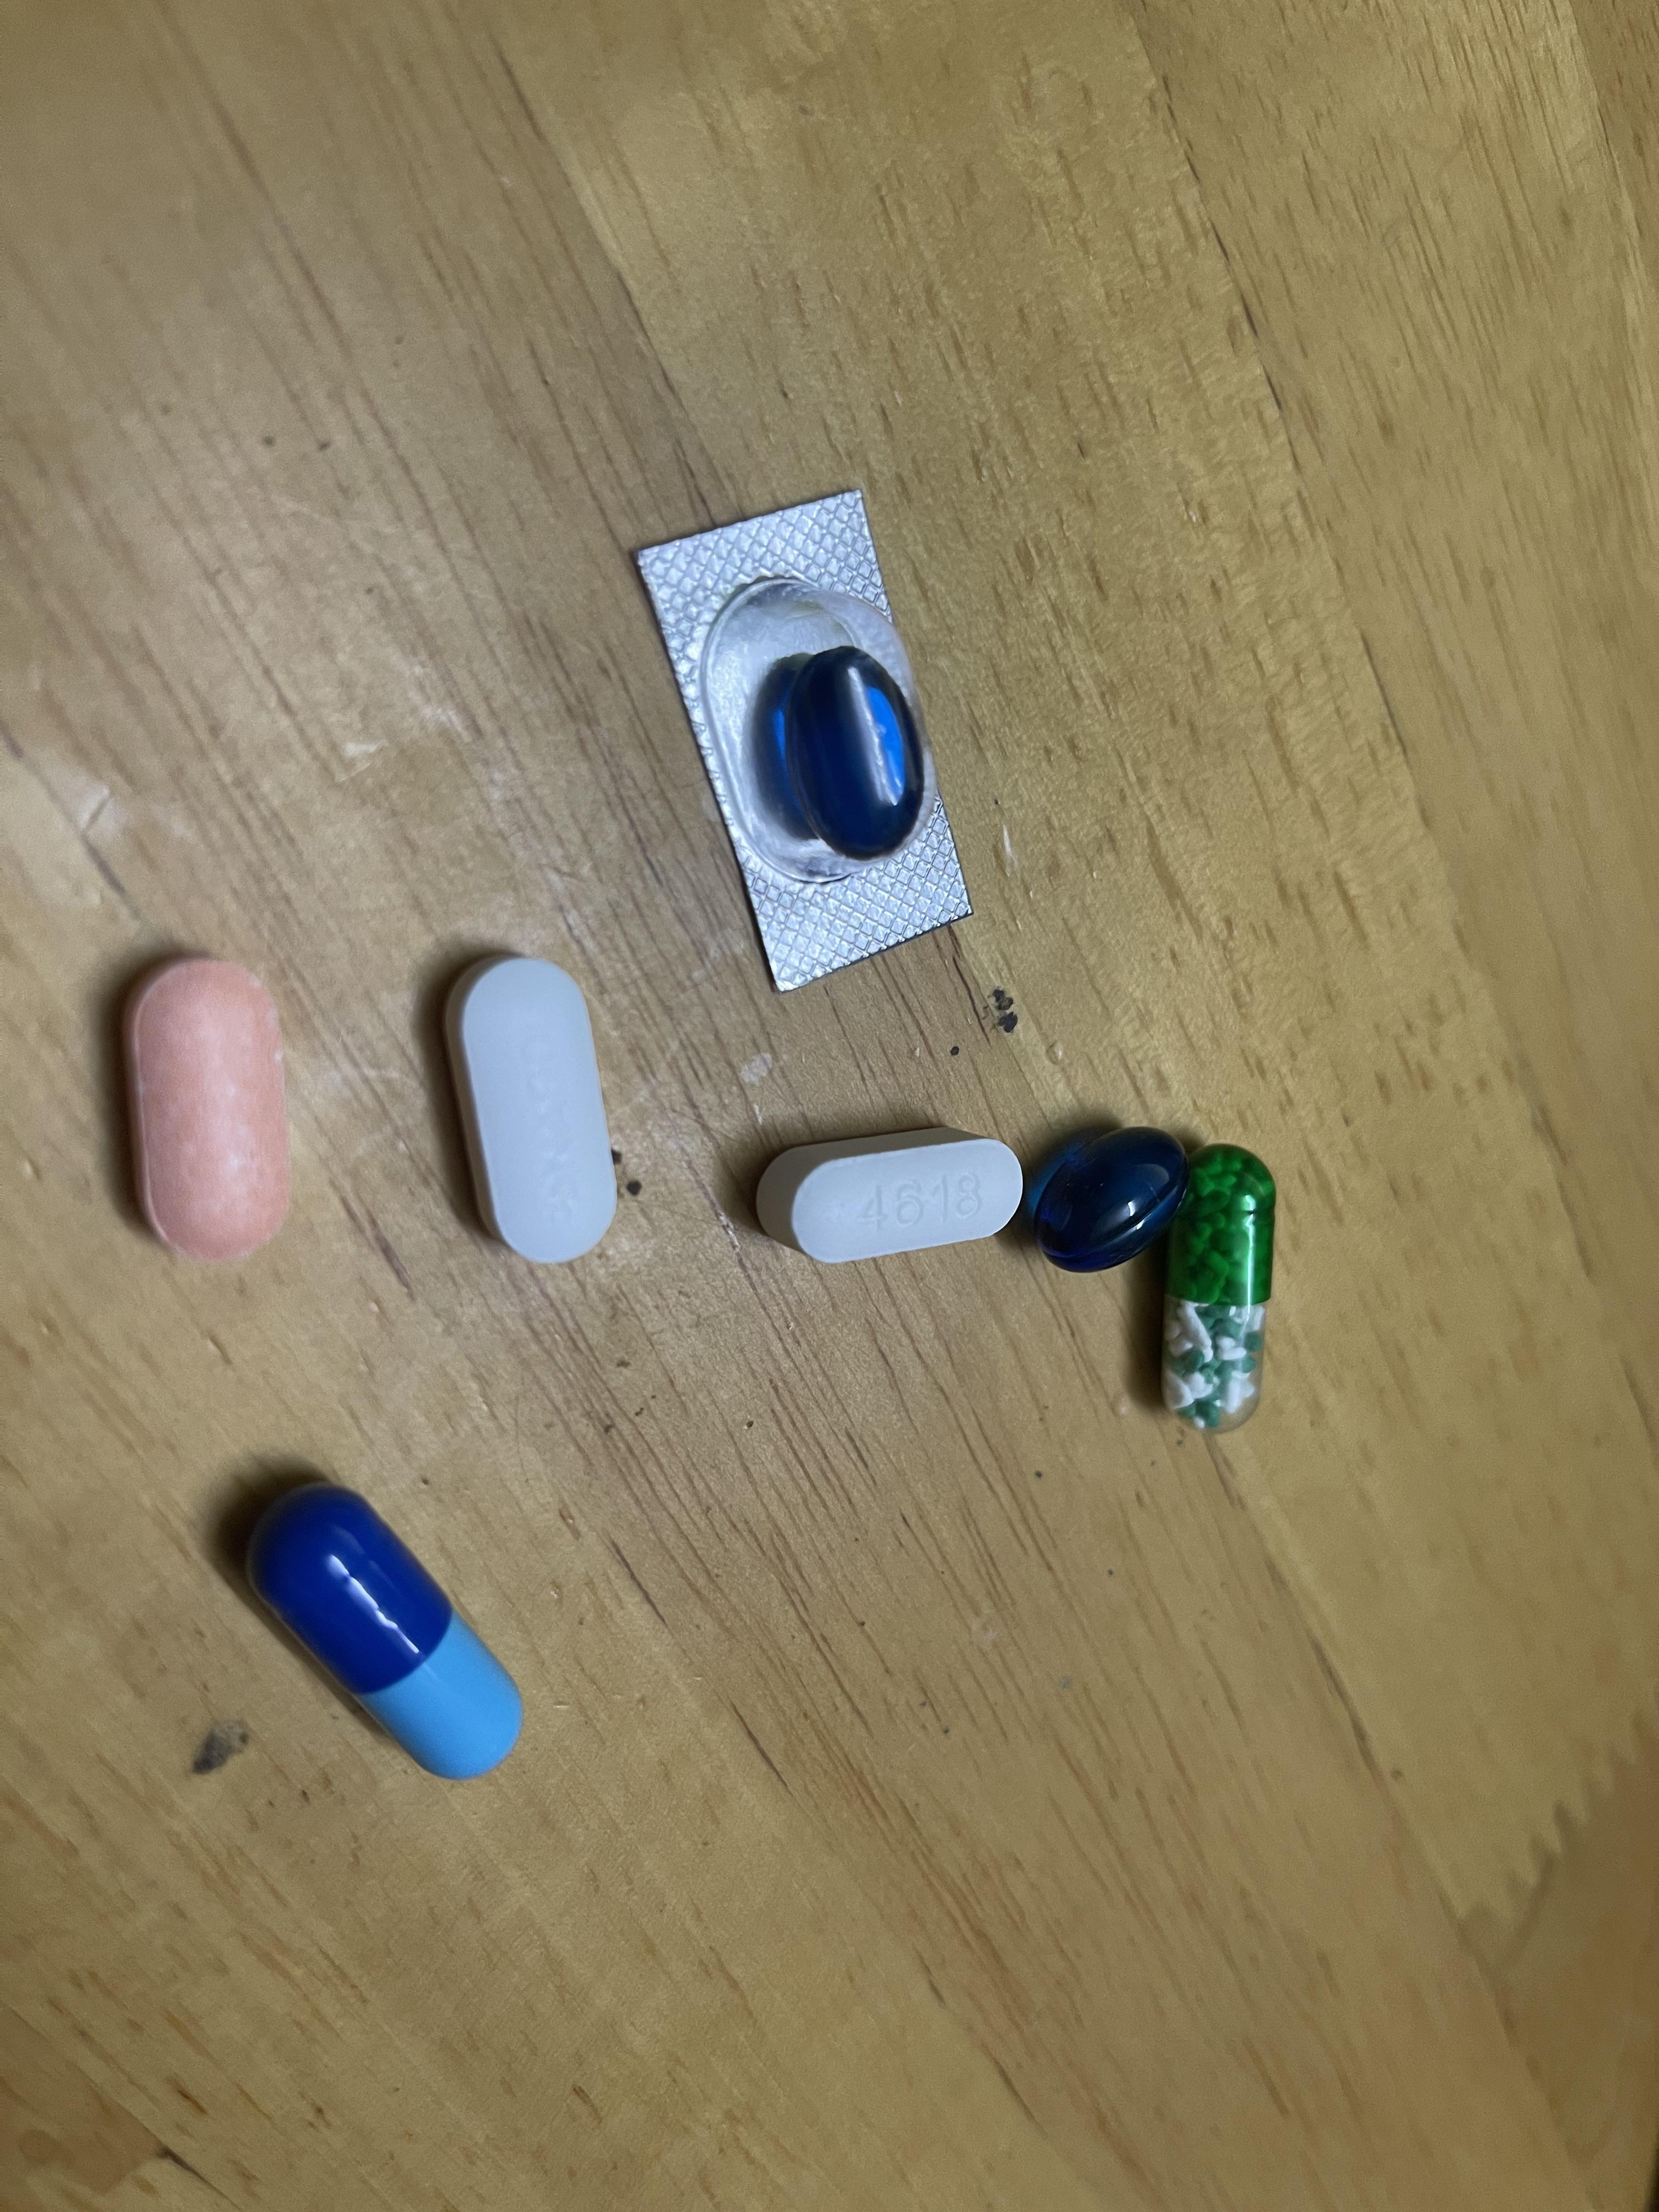Lincomyxin_500mg: (775, 648, 932, 866), (1028, 1127, 1187, 1264)
Loratadine_10mg: (122, 958, 293, 1264)
Paracetamol_350mg: (455, 958, 619, 1256)
Paracetamol_500mg: (791, 1139, 1023, 1261)
Paracetamol_650mg: (1162, 1150, 1276, 1421)
pill: (260, 1493, 519, 1778)
